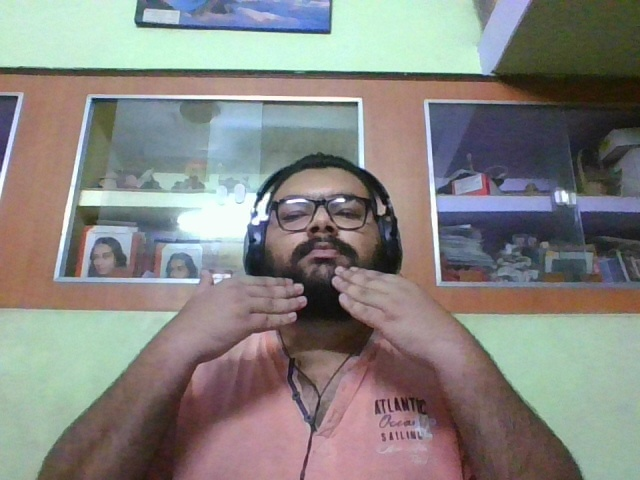thankyou: (176, 264, 482, 389)
